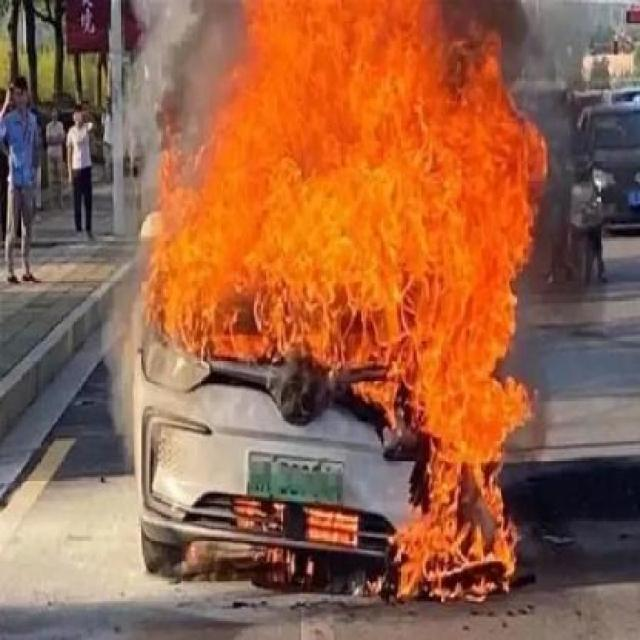Fire: (160, 1, 542, 367), (421, 48, 536, 467), (400, 512, 512, 594)
Smoke: (106, 2, 182, 413)
